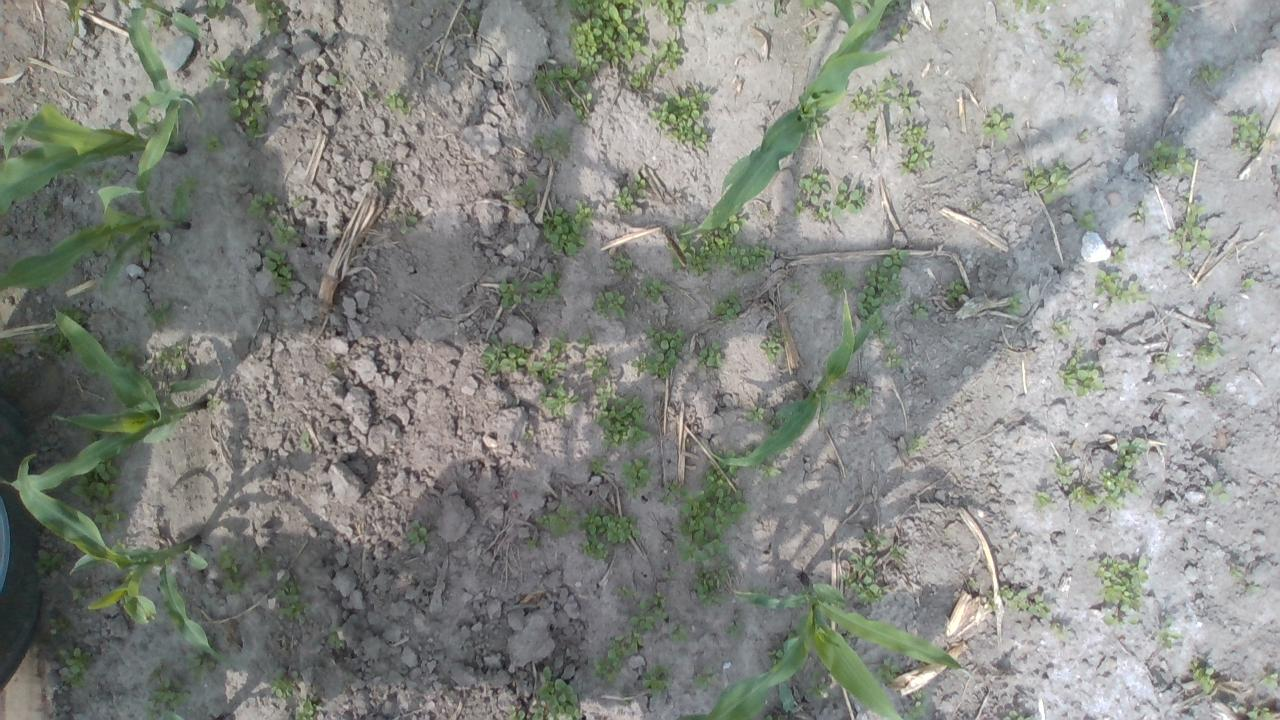Maize: (679, 0, 900, 238), (17, 451, 225, 663), (675, 570, 963, 720), (0, 2, 184, 216), (0, 304, 207, 494), (0, 93, 189, 292), (705, 288, 878, 466), (696, 0, 876, 32), (63, 0, 202, 40), (776, 678, 798, 720)
Weeds: (676, 448, 750, 565), (564, 0, 650, 75), (205, 55, 272, 145), (670, 212, 747, 278), (858, 247, 909, 338), (70, 456, 128, 534), (646, 84, 712, 148), (593, 385, 651, 450), (1086, 554, 1148, 614), (536, 62, 594, 126), (578, 507, 640, 560), (248, 192, 306, 248), (541, 198, 594, 256), (630, 36, 685, 90), (632, 325, 686, 380), (1165, 192, 1213, 252), (594, 630, 644, 686), (143, 663, 192, 720), (532, 666, 583, 720), (839, 554, 891, 606), (1021, 158, 1072, 204), (1059, 346, 1104, 398), (1144, 0, 1186, 52), (482, 334, 532, 376), (1094, 270, 1149, 308), (691, 561, 735, 608), (1145, 139, 1196, 178), (998, 583, 1051, 620), (532, 330, 568, 384), (848, 74, 899, 112), (898, 124, 934, 175), (25, 324, 74, 361), (1228, 111, 1266, 158), (1098, 468, 1140, 510), (216, 545, 252, 593), (262, 249, 296, 299), (274, 578, 312, 622), (628, 592, 668, 632), (620, 455, 656, 499), (729, 239, 772, 274), (244, 0, 284, 37), (610, 173, 646, 214), (539, 384, 579, 420), (58, 648, 92, 689), (535, 505, 578, 537), (814, 266, 856, 298), (709, 286, 743, 324), (1192, 330, 1226, 367), (104, 341, 147, 370), (830, 183, 866, 216), (526, 270, 562, 303), (502, 178, 539, 210), (534, 130, 572, 160), (798, 170, 831, 204), (592, 288, 627, 320), (184, 648, 216, 682), (640, 662, 671, 696), (982, 107, 1012, 142), (140, 298, 172, 330), (268, 669, 302, 699), (1115, 438, 1149, 468), (759, 330, 790, 362), (79, 164, 120, 188), (652, 0, 688, 27), (154, 343, 187, 371), (131, 232, 159, 264), (696, 340, 724, 372), (1052, 44, 1086, 70), (1190, 660, 1216, 694), (903, 689, 931, 720), (636, 276, 666, 304), (390, 209, 420, 235), (1155, 618, 1181, 648), (1069, 484, 1099, 510), (1050, 455, 1076, 484), (1010, 0, 1060, 15), (499, 277, 522, 309), (804, 670, 830, 698), (294, 697, 325, 720), (1192, 64, 1224, 86), (249, 552, 278, 576), (384, 89, 410, 115), (1070, 207, 1096, 233), (406, 520, 431, 547), (586, 354, 610, 382), (844, 384, 872, 407), (1152, 350, 1180, 372), (883, 341, 905, 369), (898, 85, 918, 115), (692, 666, 716, 691), (876, 658, 901, 682), (199, 132, 226, 154), (1068, 16, 1092, 40), (36, 193, 56, 221), (56, 304, 84, 324), (372, 161, 392, 189), (726, 610, 746, 638), (906, 432, 929, 456), (863, 530, 887, 553), (758, 456, 782, 479), (944, 278, 965, 303), (326, 624, 346, 650), (878, 0, 908, 17), (100, 236, 122, 259), (657, 480, 677, 505), (1205, 482, 1230, 502), (762, 412, 784, 434), (204, 0, 227, 21), (586, 454, 609, 475), (614, 252, 634, 276), (576, 331, 596, 354), (766, 642, 784, 666), (1102, 614, 1138, 626), (806, 112, 826, 132), (744, 402, 764, 422), (181, 171, 200, 192), (799, 26, 817, 48), (1005, 294, 1023, 316), (48, 617, 68, 636), (1034, 490, 1054, 509), (1052, 317, 1071, 337), (911, 300, 930, 320), (669, 624, 690, 642), (1049, 622, 1070, 640), (69, 584, 91, 601), (888, 24, 911, 40), (982, 590, 998, 611), (1246, 706, 1270, 720), (1206, 304, 1223, 323), (792, 194, 806, 216), (1260, 672, 1278, 689), (1036, 22, 1052, 41), (810, 206, 829, 222), (1110, 245, 1126, 264), (1068, 72, 1084, 90), (60, 167, 78, 183), (206, 393, 222, 411), (865, 122, 878, 144), (300, 432, 314, 452), (150, 10, 164, 30), (328, 74, 348, 88), (614, 585, 634, 599), (1001, 710, 1029, 720), (796, 0, 826, 9), (508, 705, 526, 720), (1202, 382, 1221, 396), (144, 368, 158, 386), (1134, 200, 1146, 221), (1171, 255, 1190, 268), (660, 567, 676, 580), (890, 546, 907, 558), (1001, 21, 1019, 32), (1245, 583, 1263, 594), (787, 280, 805, 291), (784, 626, 800, 638), (1230, 566, 1243, 580), (705, 1, 717, 16), (749, 584, 767, 594), (1242, 278, 1256, 290), (525, 536, 537, 550), (969, 578, 980, 590), (469, 14, 479, 27), (764, 713, 780, 720), (1080, 131, 1092, 140), (1154, 509, 1165, 518), (364, 90, 374, 99), (938, 22, 948, 29), (522, 432, 530, 440)
